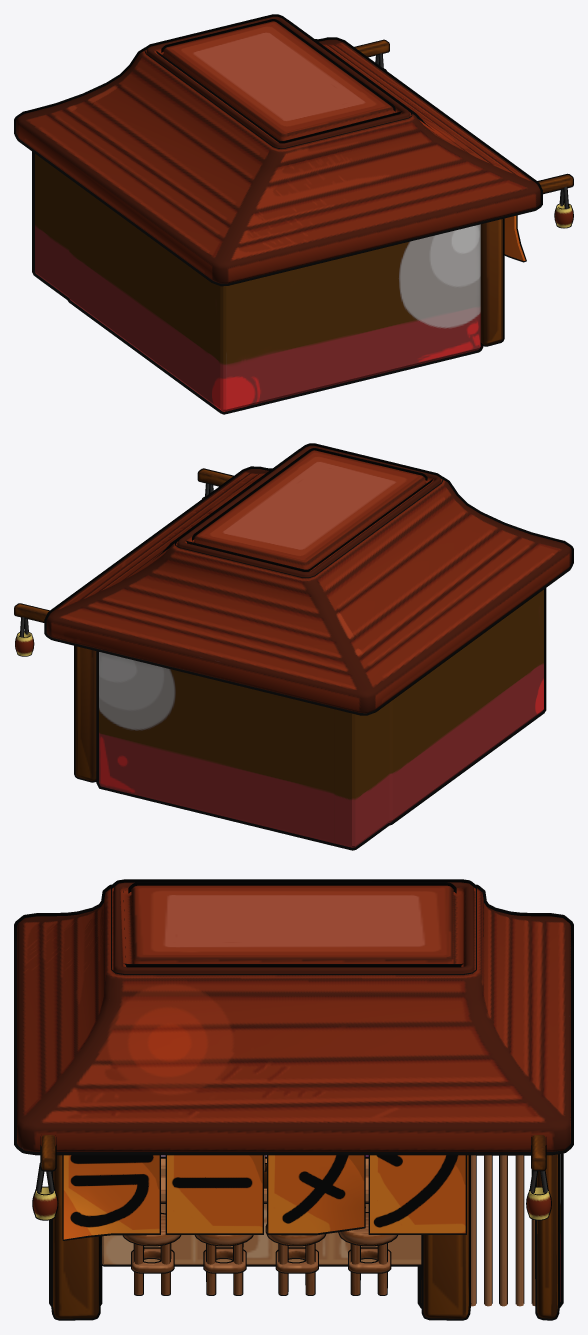
3 renders of one model, top to bottom at view 1: azimuth 30°, elevation 25°; view 2: azimuth 150°, elevation 25°; view 3: azimuth 270°, elevation 25°, orthographic. The views are drawn at different scales.
Visible parts, largest first — view 1: TECHO_BASE, base_casa, TECHO_BASE_OUTLINE, TRONCOS AFUERA, base_casa_OUTLINE, POSTERS; view 2: TECHO_BASE, base_casa, TECHO_BASE_OUTLINE, TRONCOS AFUERA, base_casa_OUTLINE; view 3: TECHO_BASE, POSTERS, TRONCOS AFUERA, TECHO_BASE_OUTLINE, barra, BARRAS AFUERA, POSTERS_outline, TRONCOS AFUERA_OUTLINE, asiento004, asiento007, asiento005, asiento006 (+8 smaller).
Part boxes in pixels (<box>): TECHO_BASE: <box>16,16,540,283</box>; base_casa: <box>35,154,480,411</box>; TECHO_BASE_OUTLINE: <box>14,14,542,286</box>; TRONCOS AFUERA: <box>480,219,502,344</box>; base_casa_OUTLINE: <box>32,151,483,414</box>; POSTERS: <box>504,216,525,260</box>; TECHO_BASE: <box>46,445,571,713</box>; base_casa: <box>99,589,543,847</box>; TECHO_BASE_OUTLINE: <box>44,443,573,715</box>; TRONCOS AFUERA: <box>75,646,96,780</box>; base_casa_OUTLINE: <box>96,588,546,850</box>; TECHO_BASE: <box>17,882,570,1151</box>; POSTERS: <box>63,1155,465,1239</box>; TRONCOS AFUERA: <box>53,1154,557,1318</box>; TECHO_BASE_OUTLINE: <box>14,879,573,1155</box>; barra: <box>102,1158,421,1264</box>; BARRAS AFUERA: <box>471,1155,535,1306</box>; POSTERS_outline: <box>62,1155,466,1240</box>; TRONCOS AFUERA_OUTLINE: <box>51,1154,559,1320</box>; asiento004: <box>339,1213,396,1294</box>; asiento007: <box>123,1214,179,1294</box>; asiento005: <box>266,1226,324,1294</box>; asiento006: <box>196,1235,252,1294</box>.
Size of the model in its own units: 6.21 by 3.89 by 6.15.
Materials: 4 (3 with a texture image).
